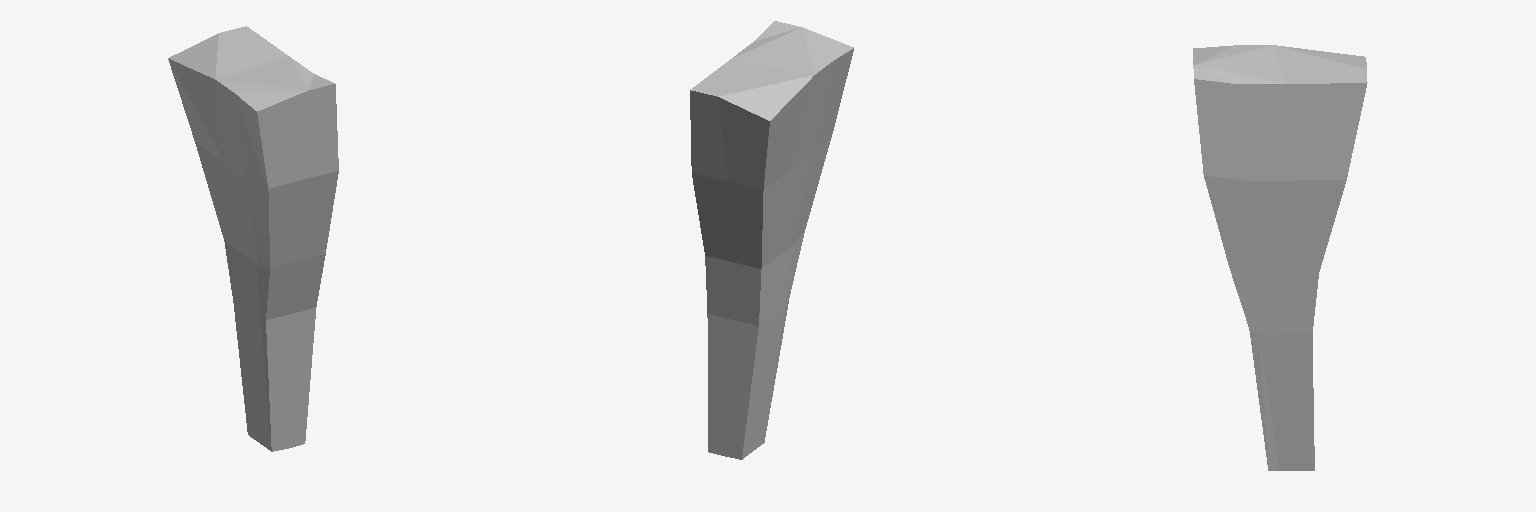
File: LeftFoot.obj
3 renders of one model, left to right at view 1: azimuth 30°, elevation 25°; view 2: azimuth 150°, elevation 25°; view 3: azimuth 270°, elevation 25°, orthographic.
Parts seen in each view (by area): view 1: 体.001; view 2: 体.001; view 3: 体.001.
Boxes of the visible parts, box(x1,y1,x2,y2) form: 体.001: box(168, 26, 338, 451); 体.001: box(690, 21, 853, 459); 体.001: box(1193, 45, 1367, 470).
Bounding box in the file's own units: 0.3778 × 1.56 × 0.6355.